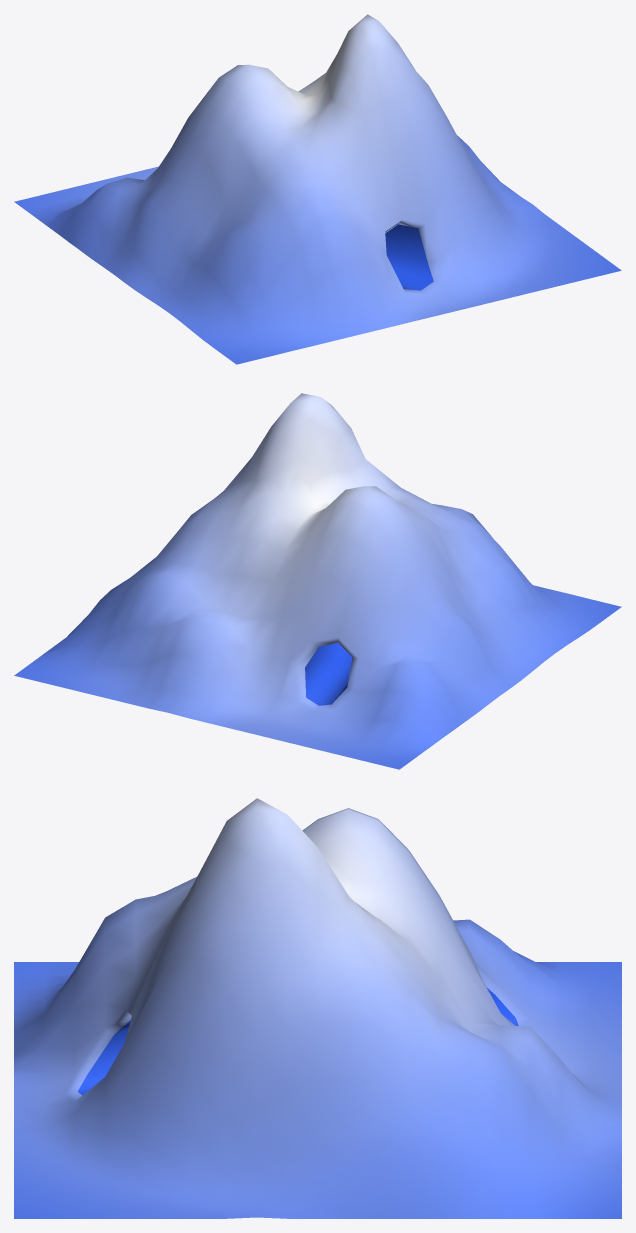
File: Smaller moutain island 1.fbx
3 renders of one model, top to bottom at view 1: azimuth 30°, elevation 25°; view 2: azimuth 150°, elevation 25°; view 3: azimuth 270°, elevation 25°, orthographic. The views are drawn at different scales.
Visible parts, largest first — view 1: pPlane1; view 2: pPlane1; view 3: pPlane1.
Boxes of the visible parts, x1,y1,x2,y2 form: pPlane1: (14,14,621,364); pPlane1: (14,393,621,769); pPlane1: (14,798,621,1218).
Size of the model in its own units: 22.6 by 12.54 by 22.6.
